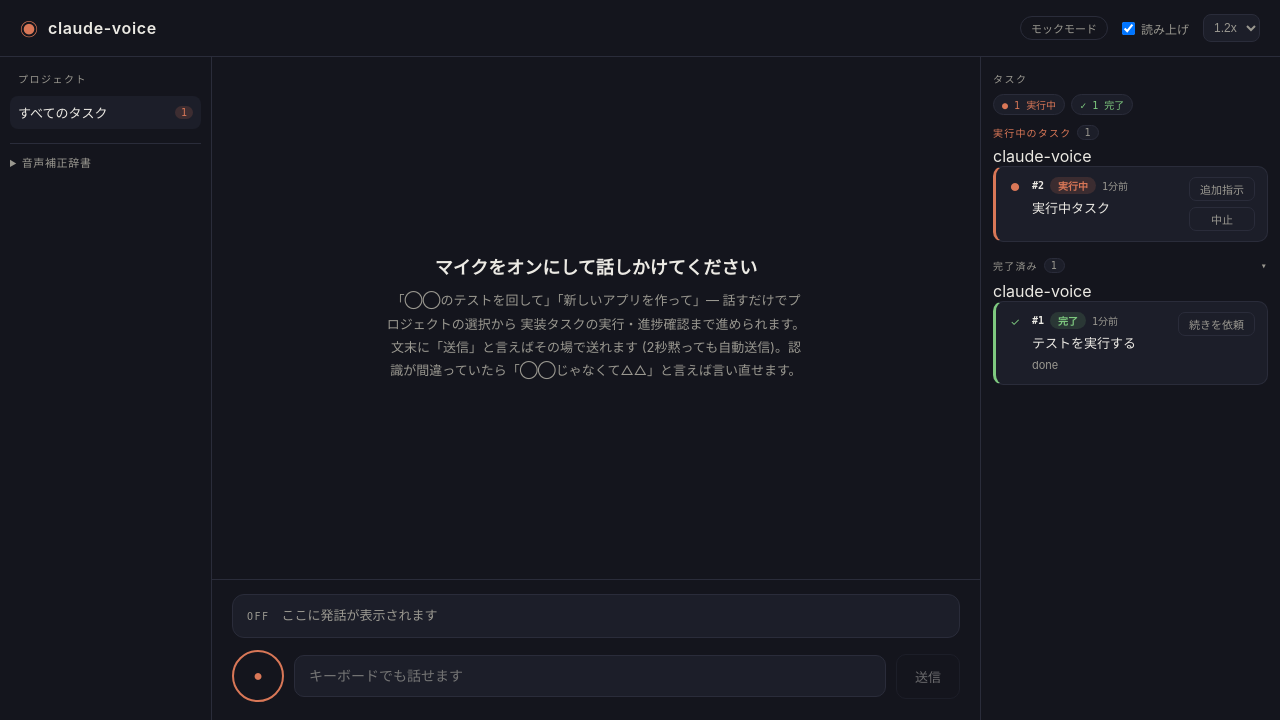
Scenario: 追いタスク(タスク選択とフォローアップ指示) › 完了タスクをクリックすると選択され、入力欄付近にチップが出る。再クリックで解除
Click the button "#1 完了 1分前 テストを実行する done".
click(1100, 343)  # box [1032, 312, 1168, 374]
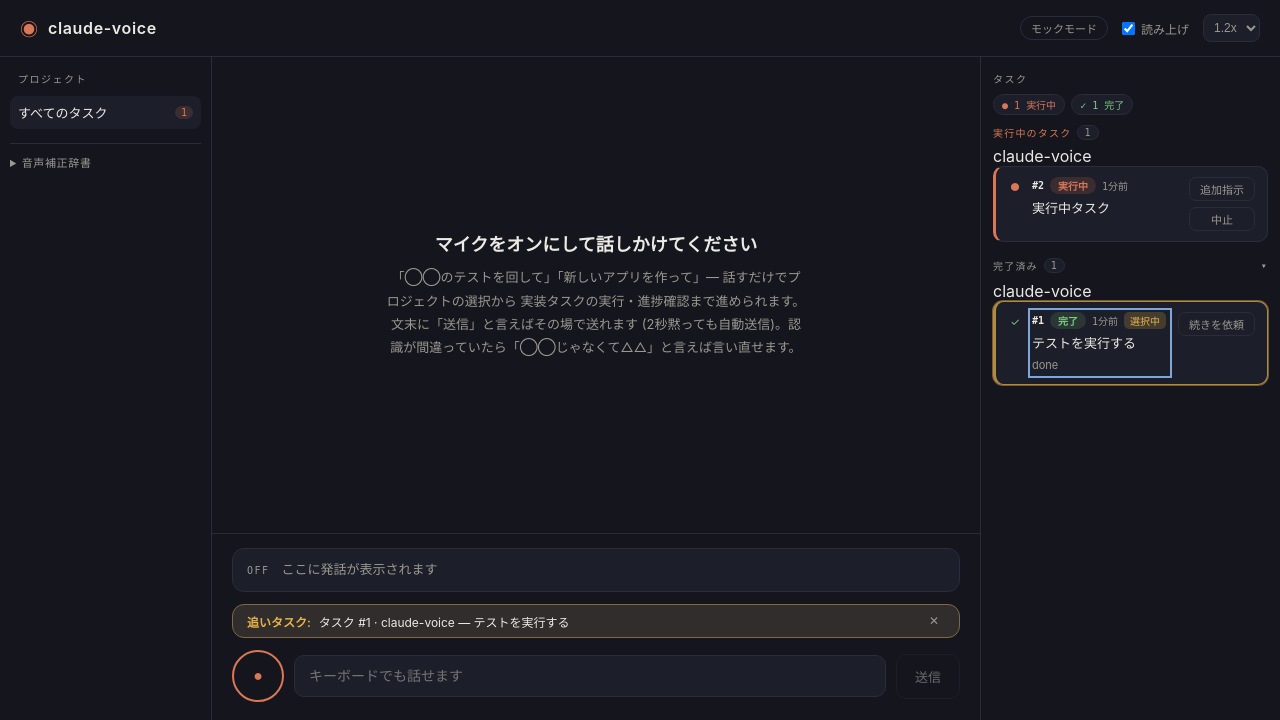
Expected: the text "追いタスク:" is shown, [247, 612, 311, 630]
Expected: the text "選択中" is shown, [1124, 312, 1166, 329]
Expected: the text "タスク #1 · claude-voice — テストを実行する" is shown, [319, 614, 570, 630]
Note: もう一度クリックすると選択解除
Click the button "#1 完了 1分前 選択中 テストを実行する done".
click(1100, 343)  # box [1032, 312, 1168, 374]
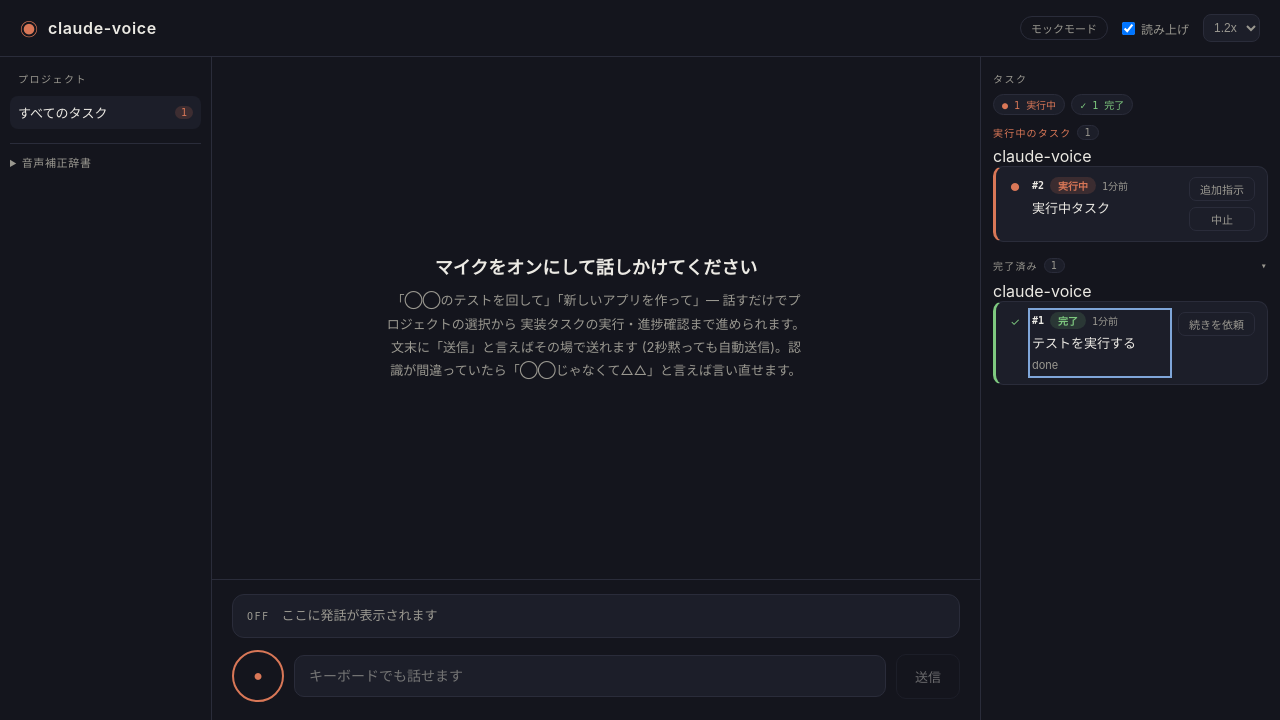
Expected: the text "追いタスク" is gone
